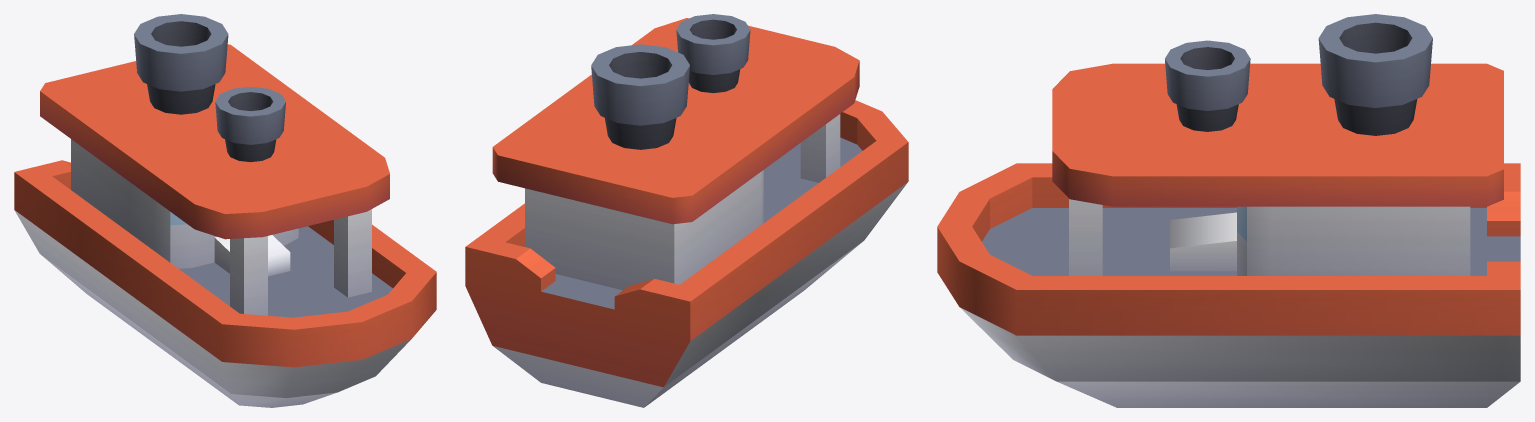
File: k-watercraft-boat-tug-a.glb
The picture shows the model from 3 angles, left to right: view 1: azimuth 30°, elevation 25°; view 2: azimuth 150°, elevation 25°; view 3: azimuth 270°, elevation 25°; orthographic projection. The views are drawn at different scales.
Visible parts, largest first — view 1: boat-tug-a; view 2: boat-tug-a; view 3: boat-tug-a.
Part boxes in pixels (bbox=[...]): boat-tug-a: bbox=[14, 14, 436, 407]; boat-tug-a: bbox=[465, 14, 908, 407]; boat-tug-a: bbox=[937, 14, 1520, 407].
Size of the model in its own units: 1.79 by 2.24 by 3.47.
Materials: 1 (1 with a texture image).
